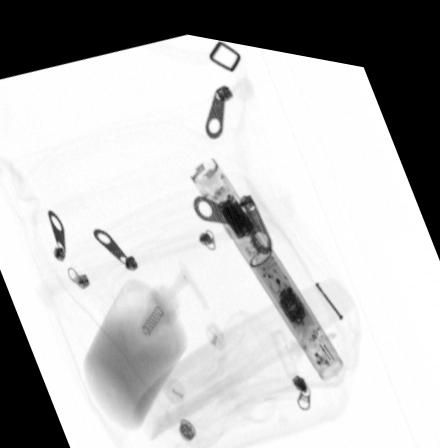Baton: (187, 148, 343, 369)
